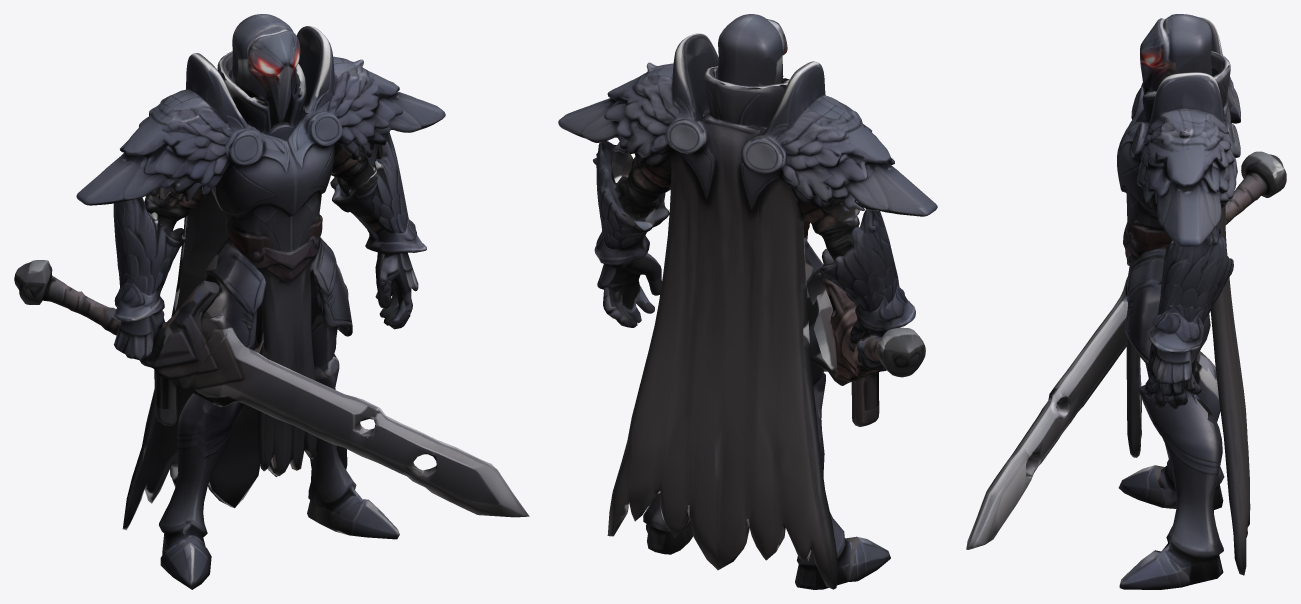
The model's file is hero_paladin_male.glb.
The picture shows the model from 3 angles, left to right: view 1: azimuth 30°, elevation 25°; view 2: azimuth 150°, elevation 25°; view 3: azimuth 270°, elevation 25°; orthographic projection. The views are drawn at different scales.
Visible parts, largest first — view 1: Armored Knight; view 2: Armored Knight; view 3: Armored Knight.
Part boxes in pixels (box(x1,y1,x2,y2)): Armored Knight: box(14, 14, 529, 589); Armored Knight: box(558, 14, 937, 589); Armored Knight: box(966, 14, 1286, 589).
Bounding box in the file's own units: 1.47 × 1.9 × 1.06.
Materials: 1 (1 with a texture image).
